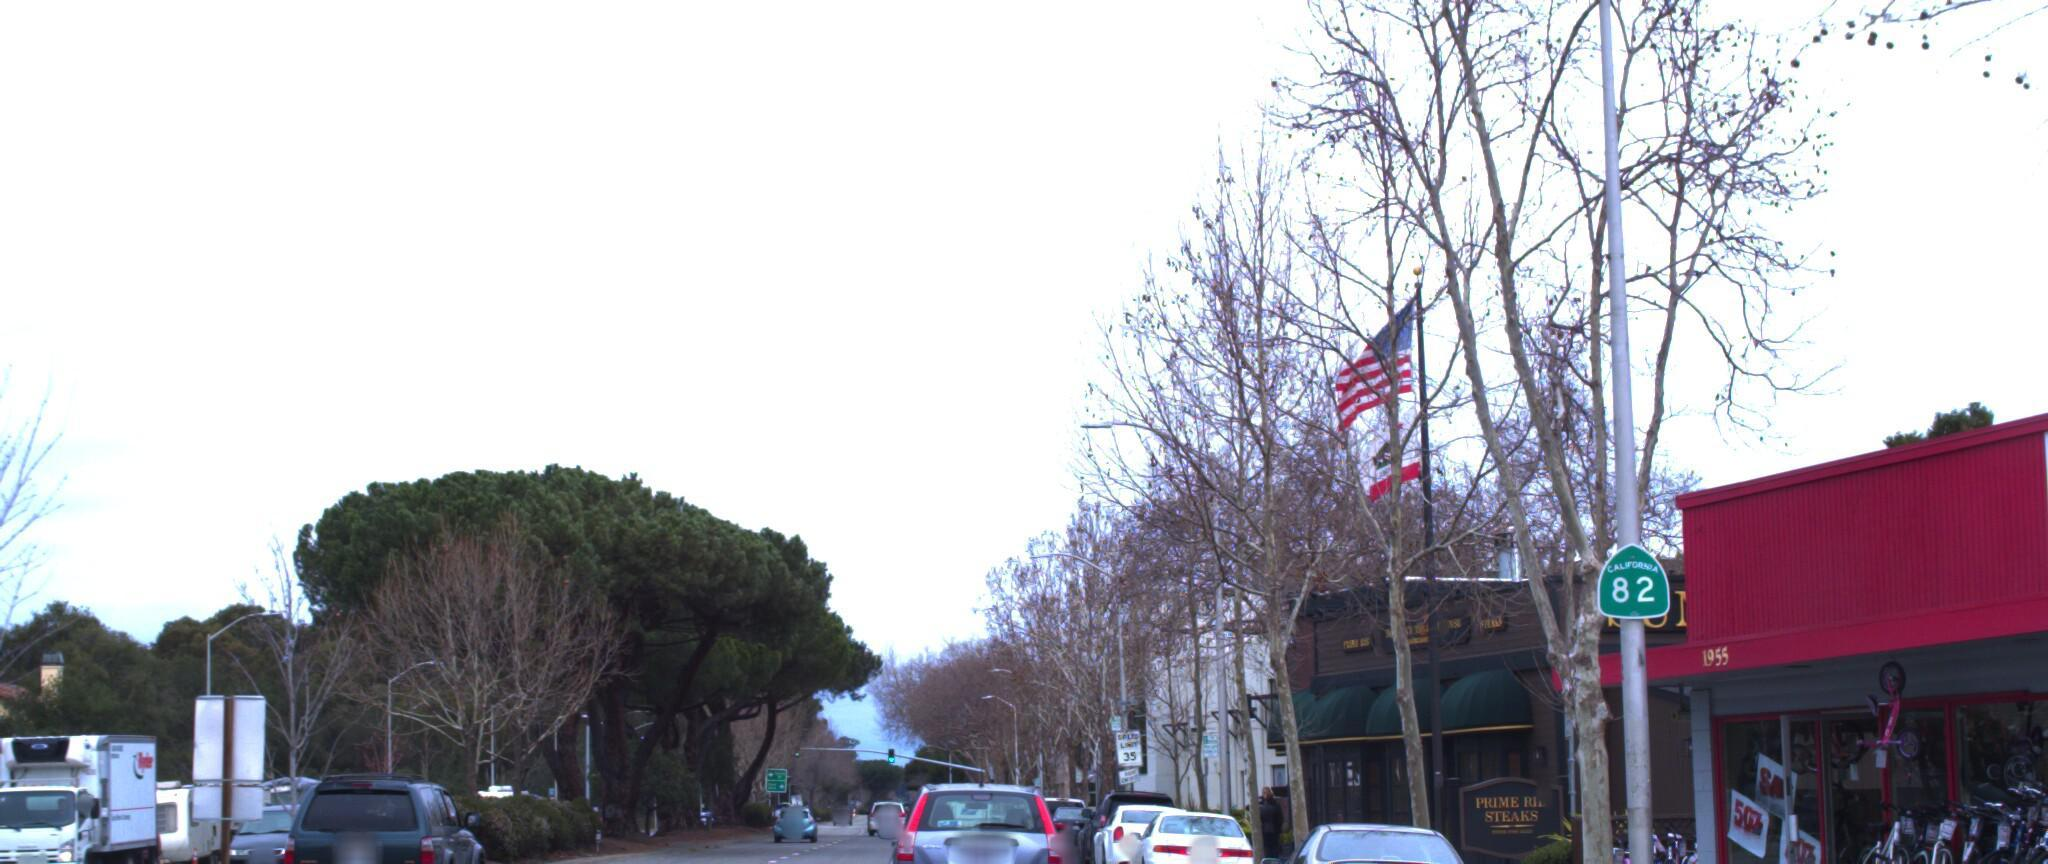bicycle: (1917, 780, 2048, 864), (1925, 780, 2048, 864), (1861, 649, 1933, 762), (1861, 786, 1962, 864), (1954, 780, 2048, 864), (1840, 790, 1938, 864), (1889, 792, 1988, 864), (1968, 779, 2048, 864), (1981, 778, 2048, 864), (1836, 838, 2048, 864), (1593, 804, 1678, 864), (2000, 777, 2048, 864), (2000, 778, 2048, 864)
car: (242, 750, 491, 864), (865, 767, 1076, 864), (1243, 804, 1498, 864), (0, 796, 195, 864), (1117, 797, 1256, 864), (1081, 791, 1204, 864)
truck: (0, 724, 178, 864)
